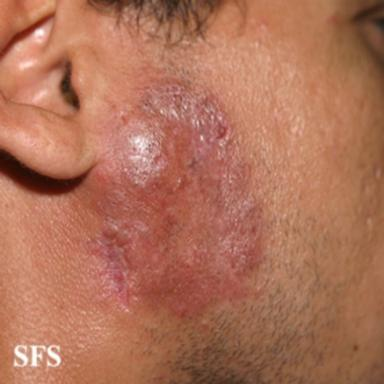Lupus-Erythematosus-Chronicus-Discoides: (91, 84, 259, 314)
